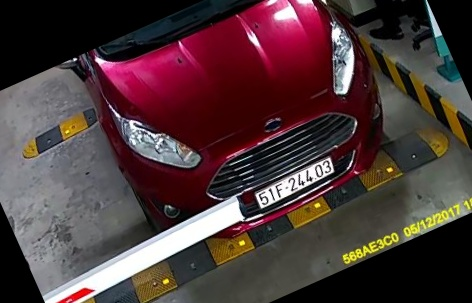plate: (246, 150, 349, 218)
